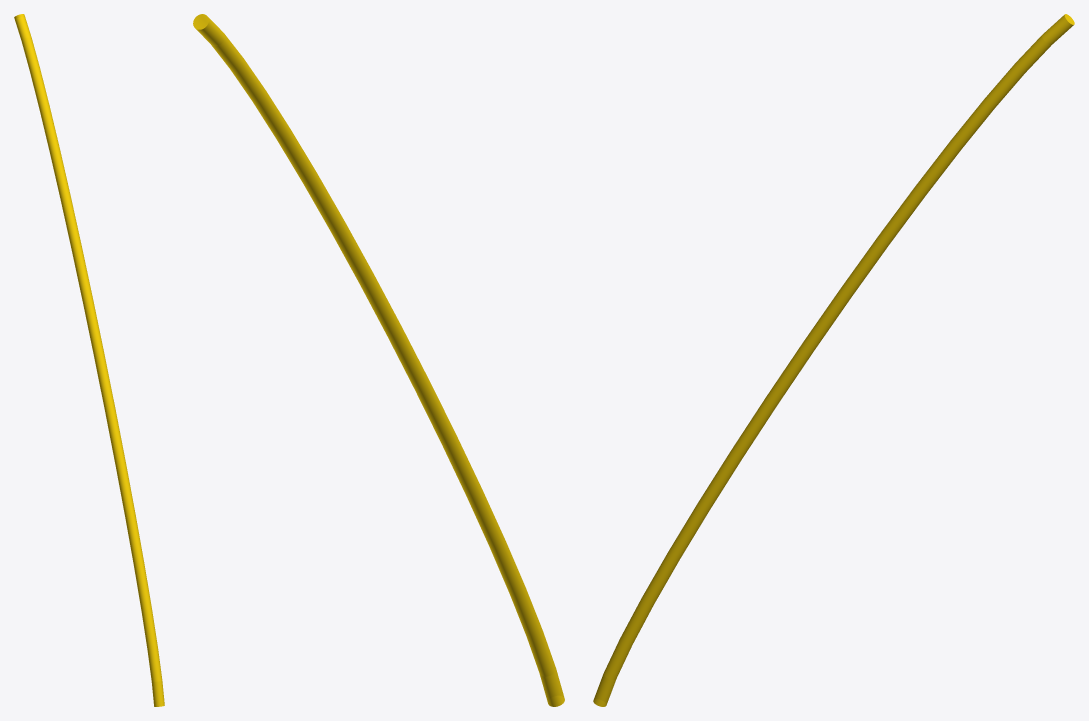
File: Event_421127236_track_20.fbx
3 renders of one model, left to right at view 1: azimuth 30°, elevation 25°; view 2: azimuth 150°, elevation 25°; view 3: azimuth 270°, elevation 25°, orthographic. The views are drawn at different scales.
Parts seen in each view (by area): view 1: Model; view 2: Model; view 3: Model.
Part boxes in pixels (<box>): Model: <box>14,14,164,706</box>; Model: <box>193,14,564,706</box>; Model: <box>593,14,1074,706</box>.
Size of the model in its own units: 0.2141 by 2.24 by 1.37.
